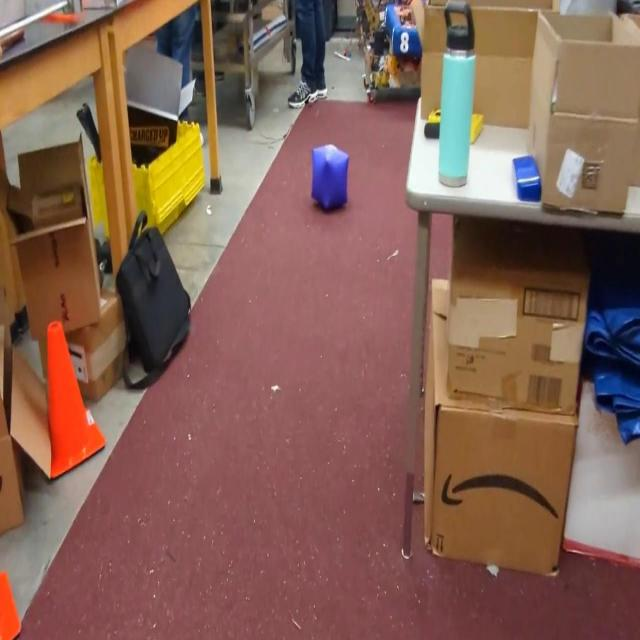frc_cube: (310, 142, 348, 214)
